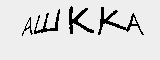А: (124, 11, 145, 35), (17, 14, 34, 39)
К: (96, 6, 128, 39), (66, 4, 93, 37)
Ш: (31, 10, 59, 34)
